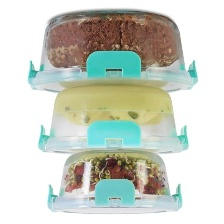plastic_box: (20, 3, 203, 97), (31, 79, 194, 162), (39, 146, 187, 221)
